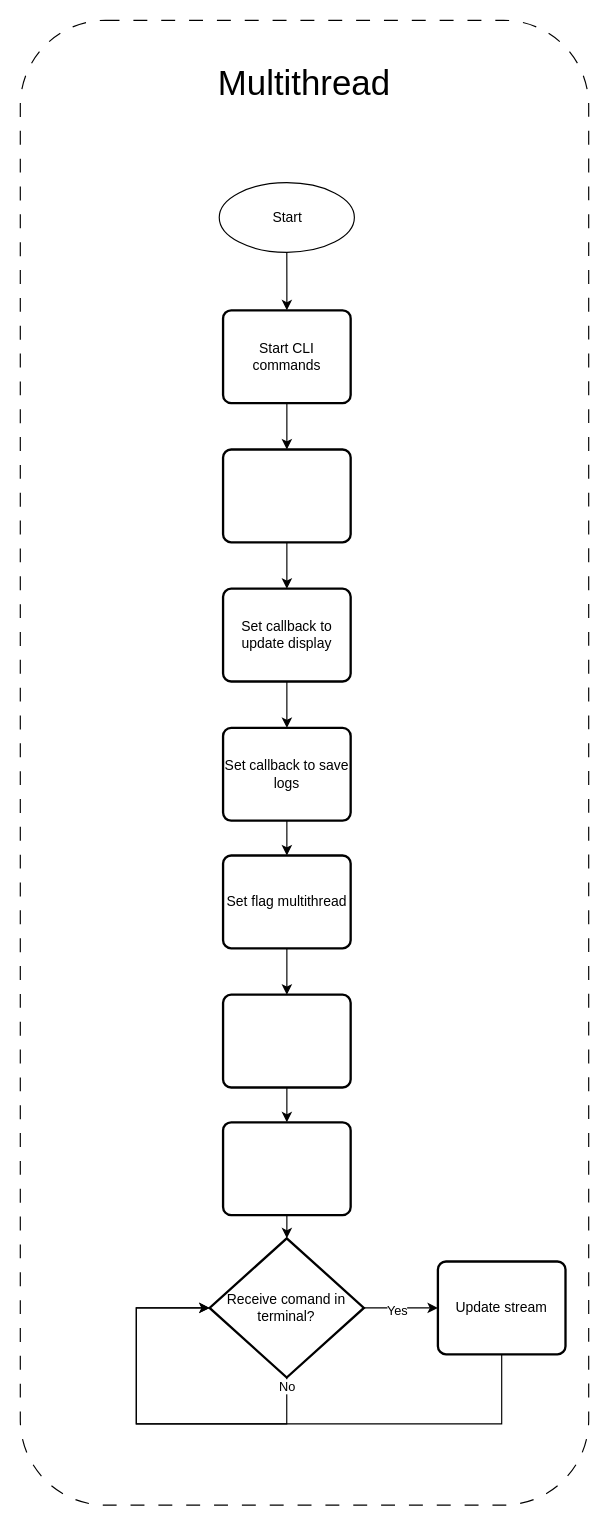
The diagram is 609 pixels wide and 1525 high, and some of its shapes have lost their labels. The centre of each missing label's shape, as x and y in pixels:
"Check buffer in terminal" belongs at point 286,1168.
"Set stream of input commands" belongs at point 286,495.
"Start thread of CLI" belongs at point 286,1040.
